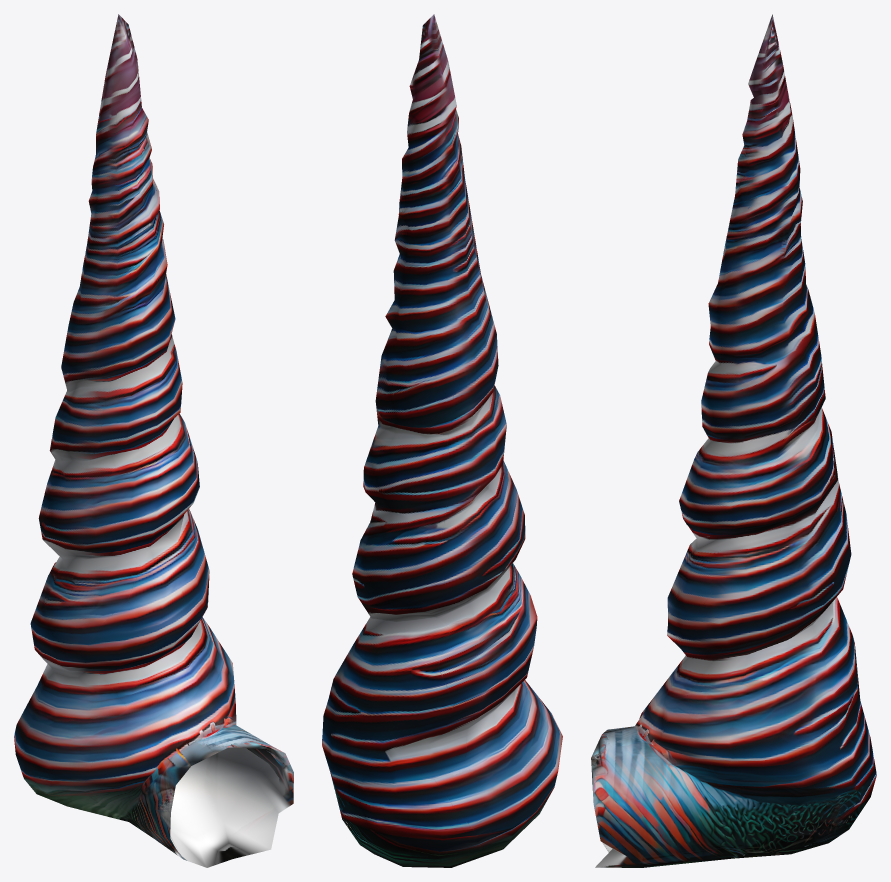
File: Red Blue Spiral Spire.fbx
3 renders of one model, left to right at view 1: azimuth 30°, elevation 25°; view 2: azimuth 150°, elevation 25°; view 3: azimuth 270°, elevation 25°, orthographic. The views are drawn at different scales.
Parts seen in each view (by area): view 1: input; view 2: input; view 3: input.
Part boxes in pixels (x1,y1,x2,y2): input: (14, 14, 293, 867); input: (322, 14, 562, 867); input: (591, 14, 876, 867).
Bounding box in the file's own units: 24.44 × 96.8 × 30.2.
1 material, 1 textured.
